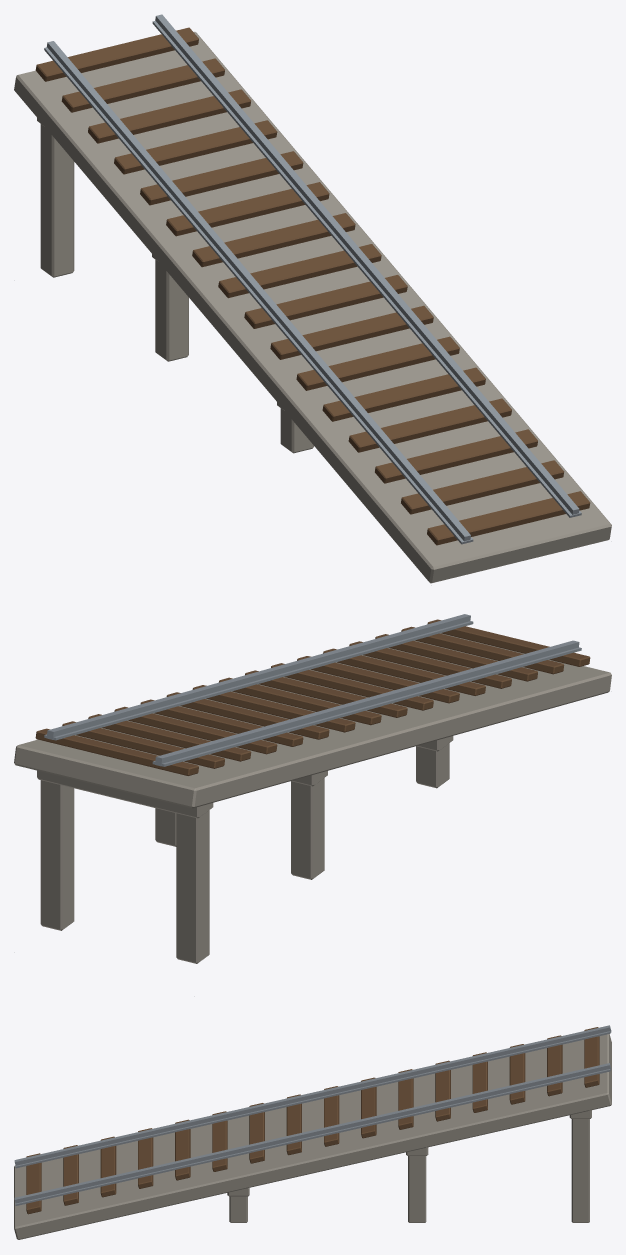
The model's file is rail_rampe.glb.
3 renders of one model, top to bottom at view 1: azimuth 30°, elevation 25°; view 2: azimuth 150°, elevation 25°; view 3: azimuth 270°, elevation 25°, orthographic. The views are drawn at different scales.
Parts seen in each view (by area): view 1: rail_beton.002, rail_traverse.006, rail_rail.006; view 2: rail_beton.002, rail_traverse.006, rail_rail.006; view 3: rail_beton.002, rail_rail.006, rail_traverse.006.
Boxes of the visible parts, left/top/right/bottom form: rail_beton.002: left=14, top=31, right=611, bottom=583; rail_traverse.006: left=35, top=27, right=590, bottom=545; rail_rail.006: left=44, top=14, right=581, bottom=544; rail_beton.002: left=14, top=633, right=611, bottom=963; rail_traverse.006: left=35, top=619, right=590, bottom=775; rail_rail.006: left=44, top=614, right=581, bottom=766; rail_beton.002: left=14, top=1034, right=611, bottom=1239; rail_rail.006: left=14, top=1025, right=611, bottom=1205; rail_traverse.006: left=26, top=1027, right=599, bottom=1214.
Size of the model in its own units: 1 by 1.22 by 4.02.
